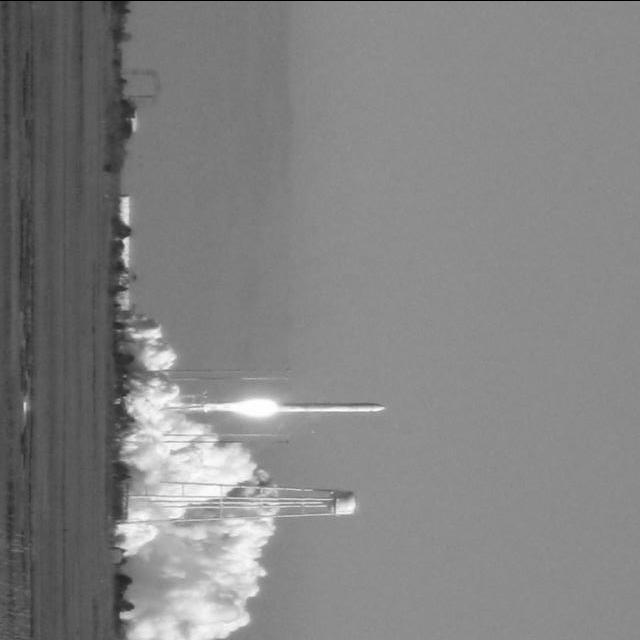missile: (267, 400, 390, 414)
